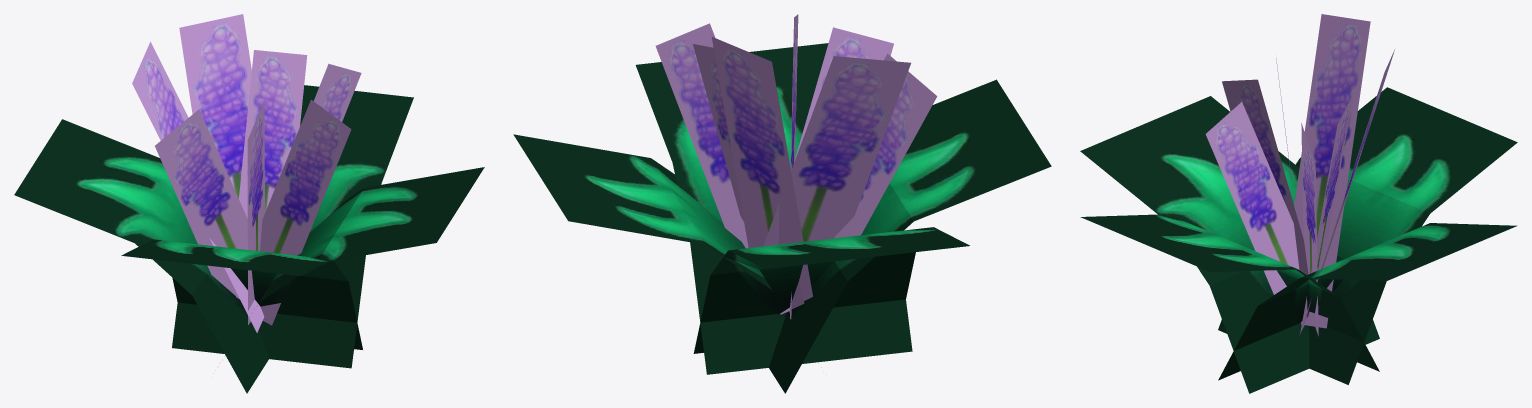
The model's file is 0180_T_ZhenYin_XunYiCao01.glb.
3 views of the same model, side by side, from view 1: azimuth 30°, elevation 25°; view 2: azimuth 150°, elevation 25°; view 3: azimuth 270°, elevation 25° (orthographic). The views are drawn at different scales.
Size of the model in its own units: 2.2 by 1.58 by 2.1.
1 material, 1 textured.
